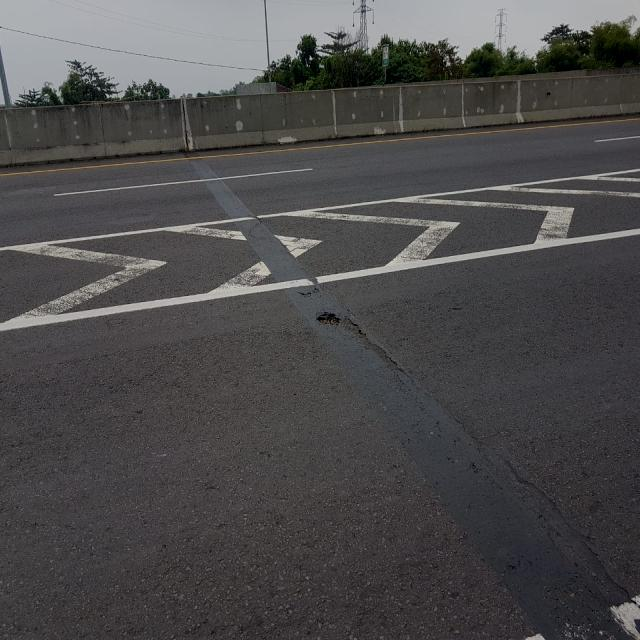Buraco: (314, 310, 345, 328)
